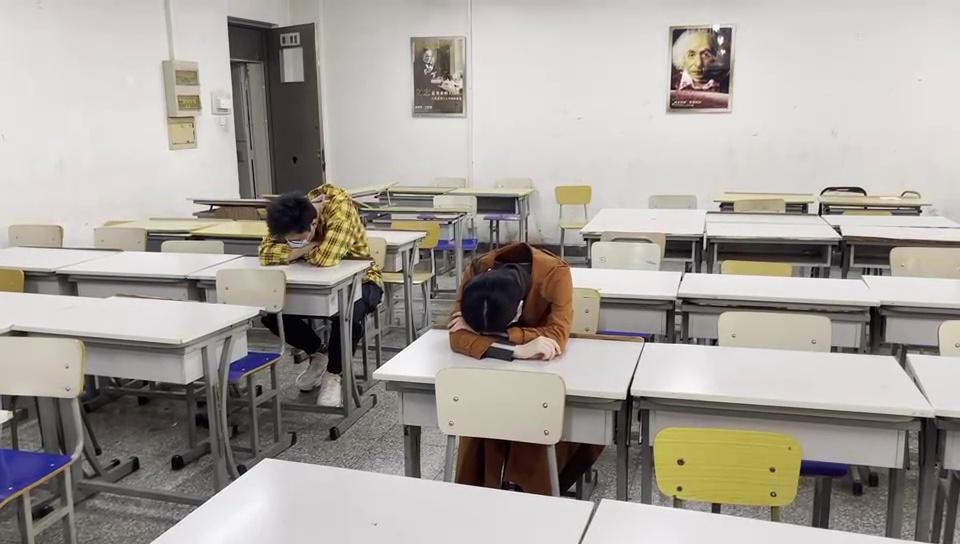sleep: (449, 243, 572, 359), (257, 182, 366, 266)
